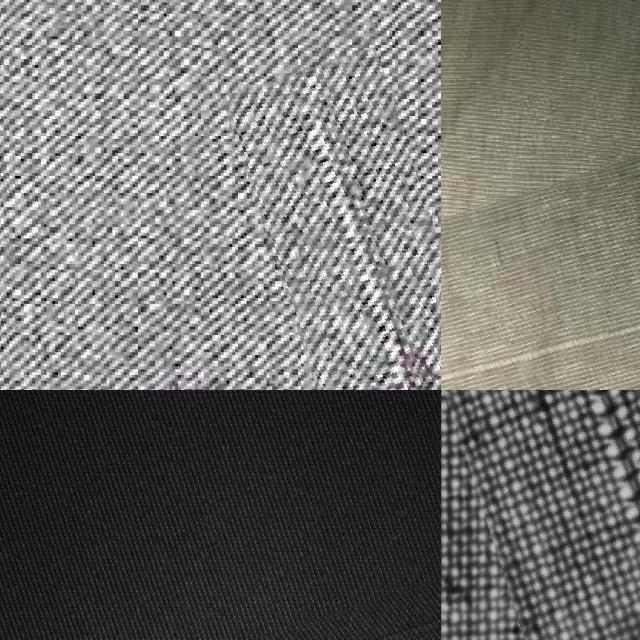Thread_other: (258, 52, 441, 390), (441, 111, 640, 390), (441, 390, 640, 640)
